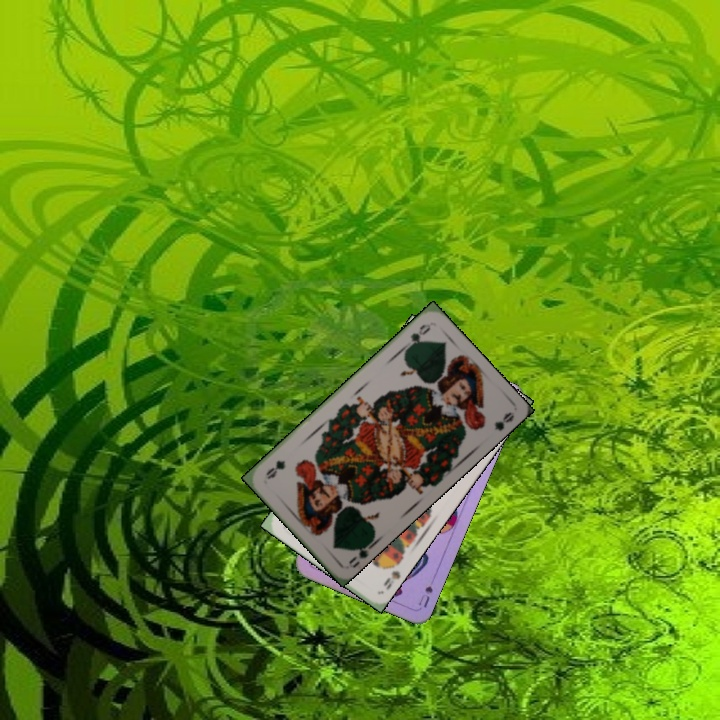GO: (399, 320, 433, 353), (345, 537, 378, 566)
S9: (379, 556, 403, 593)
SU: (414, 571, 438, 610)
